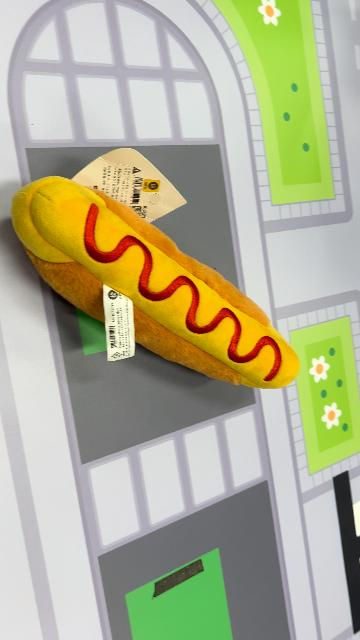hotdog: (11, 175, 301, 392)
